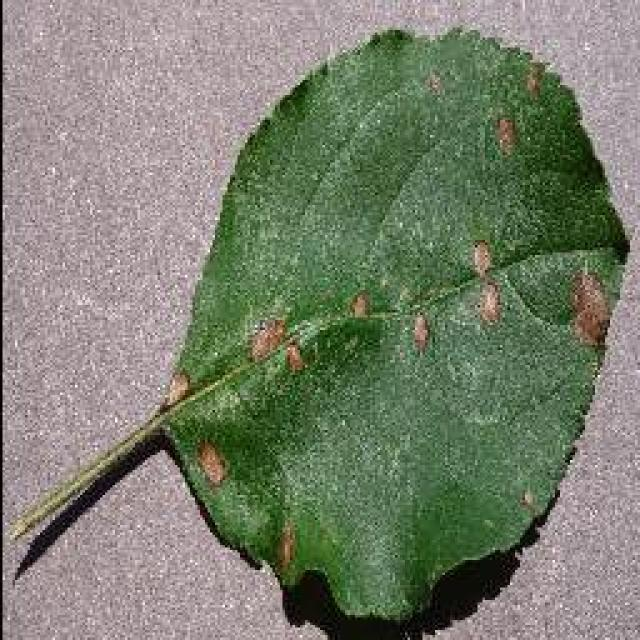Black_rot: (8, 23, 630, 625)
